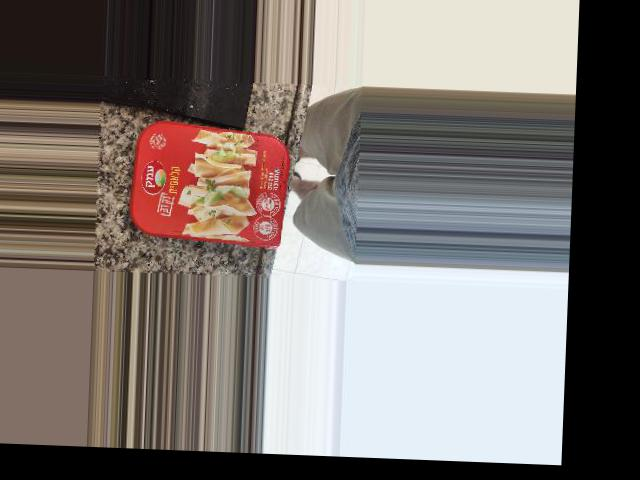cheese: (161, 104, 323, 235)
